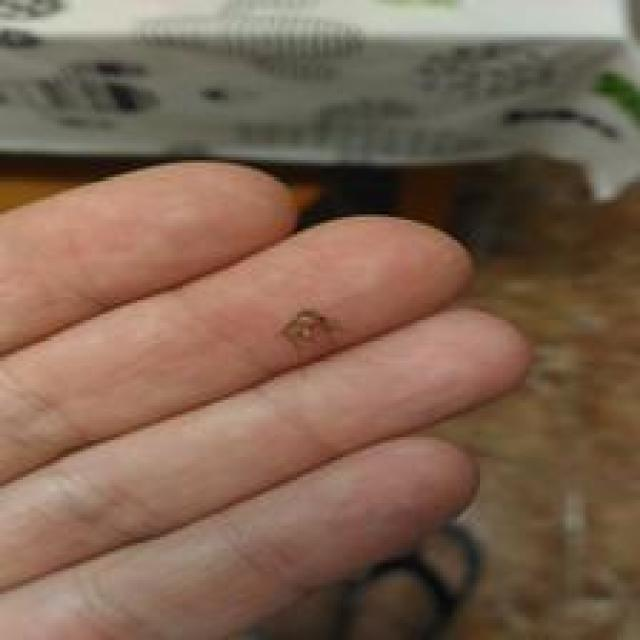Culex: (0, 0, 640, 206)
